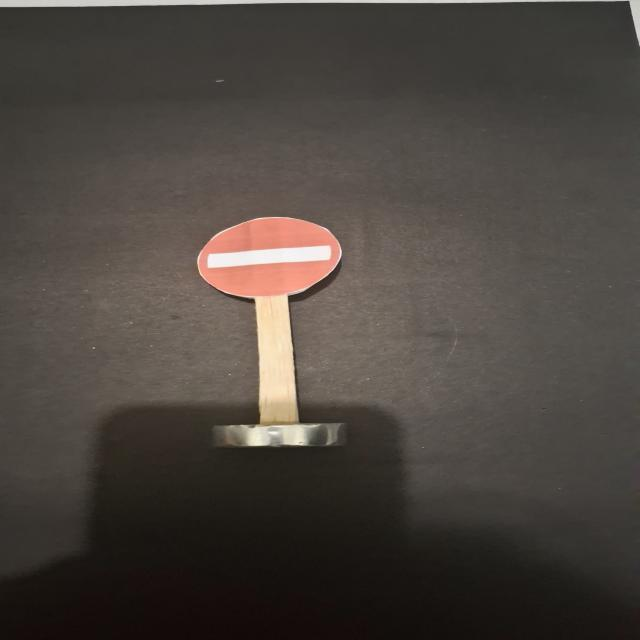Dilarang Masuk: (197, 217, 342, 297)
